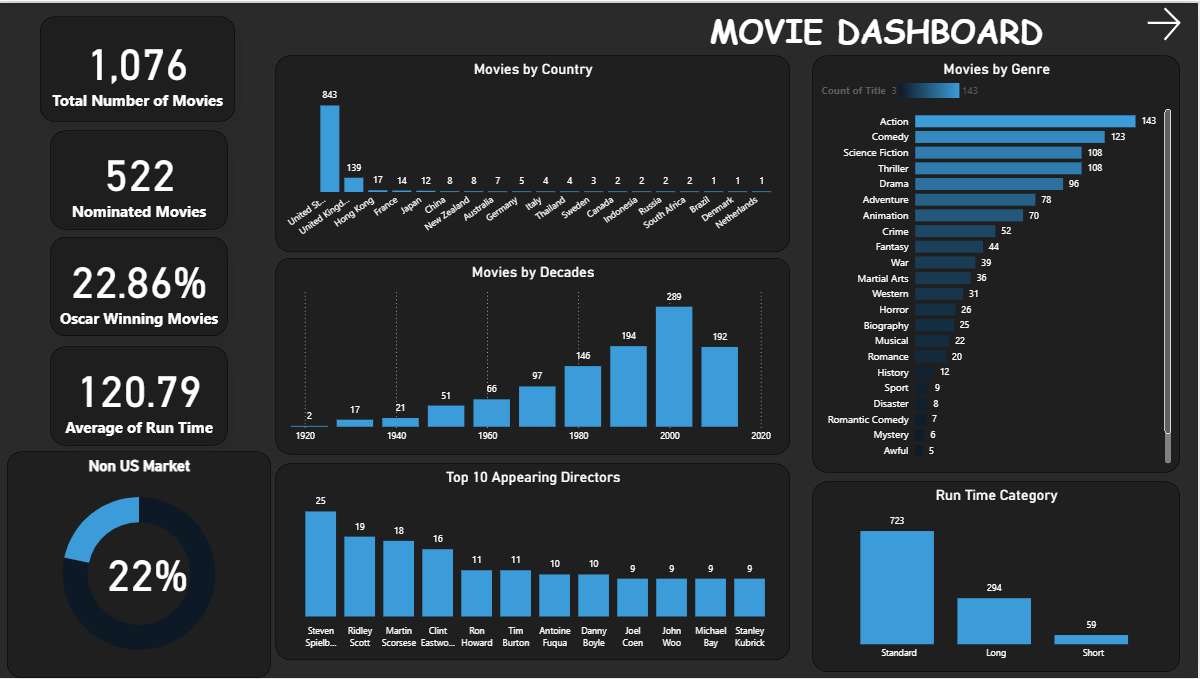

The page's visual inventory and layout, read from the dashboard file:
{"tool":"powerbi","page":{"name":"Dashboard","canvas":[1600,900],"ordinal":0},"visuals":[{"type":"card","fields":{"Values":["CountNonNull(Sheet1.Title)"]},"box":[56,18,260,140],"z":0},{"type":"clusteredBarChart","title":"Movies by Genre","fields":{"Category":["Sheet1.Genre"],"Y":["CountNonNull(Sheet1.Title)"]},"box":[1086,70,490,556],"z":1},{"type":"clusteredColumnChart","title":"Movies by Country","fields":{"Y":["CountNonNull(Sheet1.Title)"],"Category":["Sheet1.Country"]},"box":[370,70,686,262],"z":2},{"type":"card","fields":{"Values":["Sheet1.Nominated Movies"]},"box":[70,170,236,132],"z":3},{"type":"card","fields":{"Values":["Sheet1.Oscar Winning Movies"]},"box":[70,312,236,132],"z":4},{"type":"card","fields":{"Values":["Avg(Sheet1.Run Time)"]},"box":[70,458,236,132],"z":5},{"type":"clusteredColumnChart","title":"Top 10 Appearing Directors","fields":{"Category":["Sheet1.Director"],"Y":["CountNonNull(Sheet1.Director)"]},"box":[370,614,686,262],"z":6},{"type":"clusteredColumnChart","title":"Run Time Category","fields":{"Category":["Sheet1.Run Time Category"],"Y":["CountNonNull(Sheet1.Title)"]},"box":[1086,638,490,254],"z":7},{"type":"clusteredColumnChart","title":"Movies by Decades","fields":{"Y":["CountNonNull(Sheet1.Title)"],"Category":["Sheet1.Decades"]},"box":[370,340,686,262],"z":8},{"type":"donutChart","title":"Non US Market","fields":{"Category":["Sheet1.Country Group"],"Y":["CountNonNull(Sheet1.Title)"]},"box":[12,598,352,302],"z":9,"group":"g1"},{"type":"textbox","box":[800,0,598,70],"z":10},{"type":"group","id":"g1","title":"Group 1","box":[12,598,352,302],"z":12},{"type":"actionButton","box":[1526,0,74,56],"z":13},{"type":"card","fields":{"Values":["Sheet1.Non US"]},"box":[120,700,158,110],"z":1511,"group":"g1"}]}

Visuals, with their boxes in screenshot pixels (x1, y1, x2, y2), scaled from the page's 1600x900 canvas onto the 1200x679 screenshot:
card - CountNonNull(Sheet1.Title): locate(42, 14, 237, 119)
"Movies by Genre" clusteredBarChart: locate(814, 53, 1182, 472)
"Movies by Country" clusteredColumnChart: locate(278, 53, 792, 250)
card - Sheet1.Nominated Movies: locate(52, 128, 230, 228)
card - Sheet1.Oscar Winning Movies: locate(52, 235, 230, 335)
card - Avg(Sheet1.Run Time): locate(52, 346, 230, 445)
"Top 10 Appearing Directors" clusteredColumnChart: locate(278, 463, 792, 661)
"Run Time Category" clusteredColumnChart: locate(814, 481, 1182, 673)
"Movies by Decades" clusteredColumnChart: locate(278, 257, 792, 454)
"Non US Market" donutChart: locate(9, 451, 273, 678)
textbox: locate(600, 0, 1048, 53)
"Group 1" group: locate(9, 451, 273, 678)
actionButton: locate(1144, 0, 1199, 42)
card - Sheet1.Non US: locate(90, 528, 208, 611)
